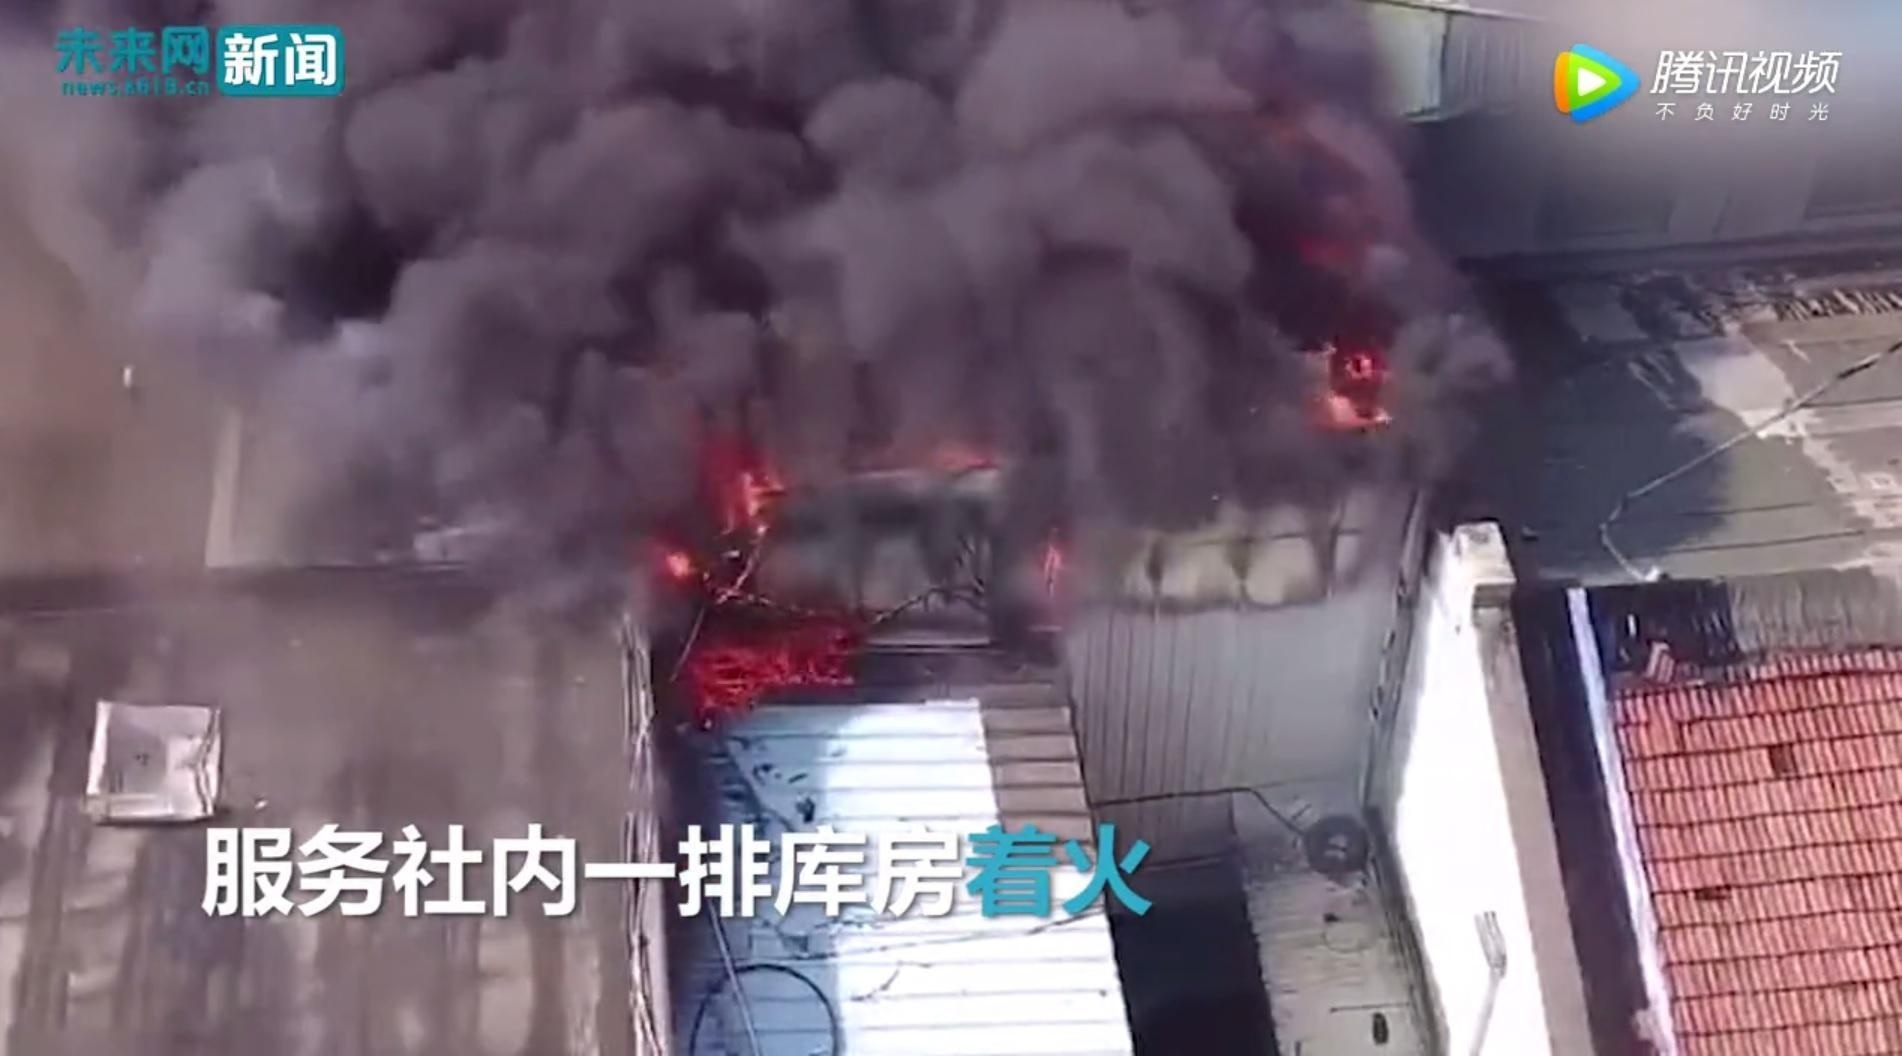fire: (645, 456, 865, 705), (1303, 338, 1392, 429)
